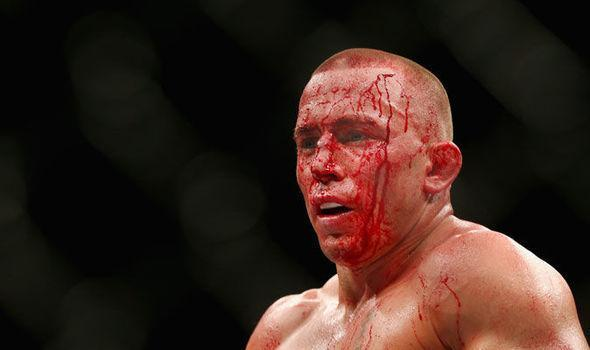Fire: (295, 65, 447, 268), (249, 273, 468, 350)
